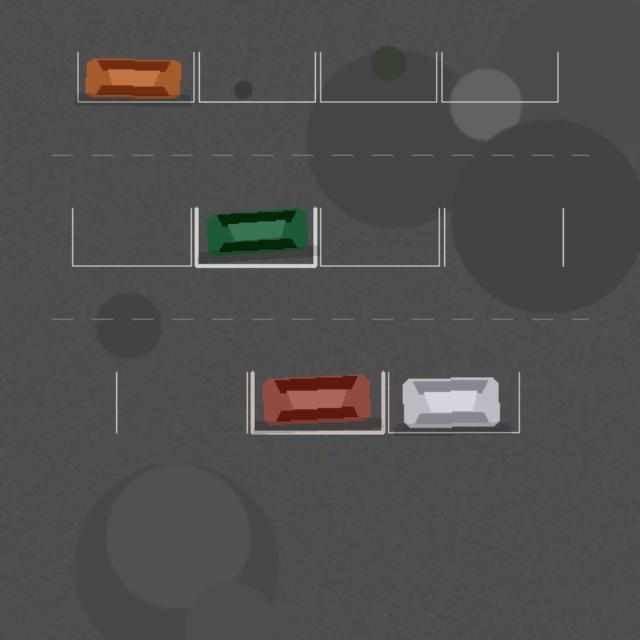space-empty: (116, 372, 247, 432), (72, 208, 191, 265), (320, 208, 439, 265), (444, 208, 563, 265), (199, 52, 315, 101), (320, 52, 436, 101), (441, 52, 557, 101)
space-occupied: (252, 372, 383, 432), (388, 372, 519, 432), (196, 208, 315, 265), (77, 52, 193, 101)
